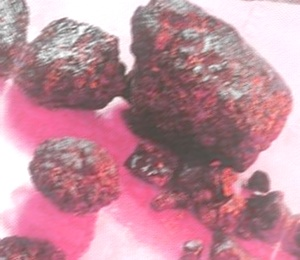halobolite: (86, 1, 300, 191), (21, 23, 117, 116), (35, 125, 118, 212), (178, 187, 266, 258), (7, 212, 66, 260), (124, 144, 173, 179)
